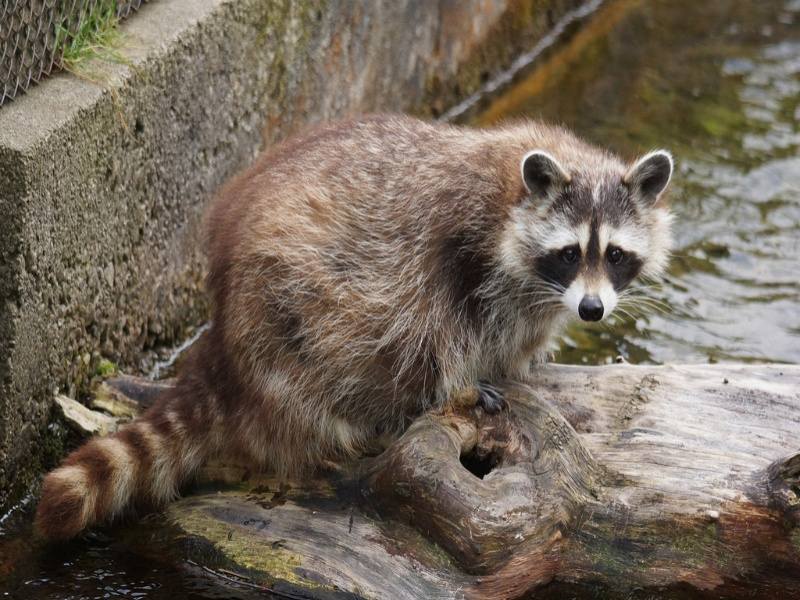raccoon: (33, 110, 680, 548)
